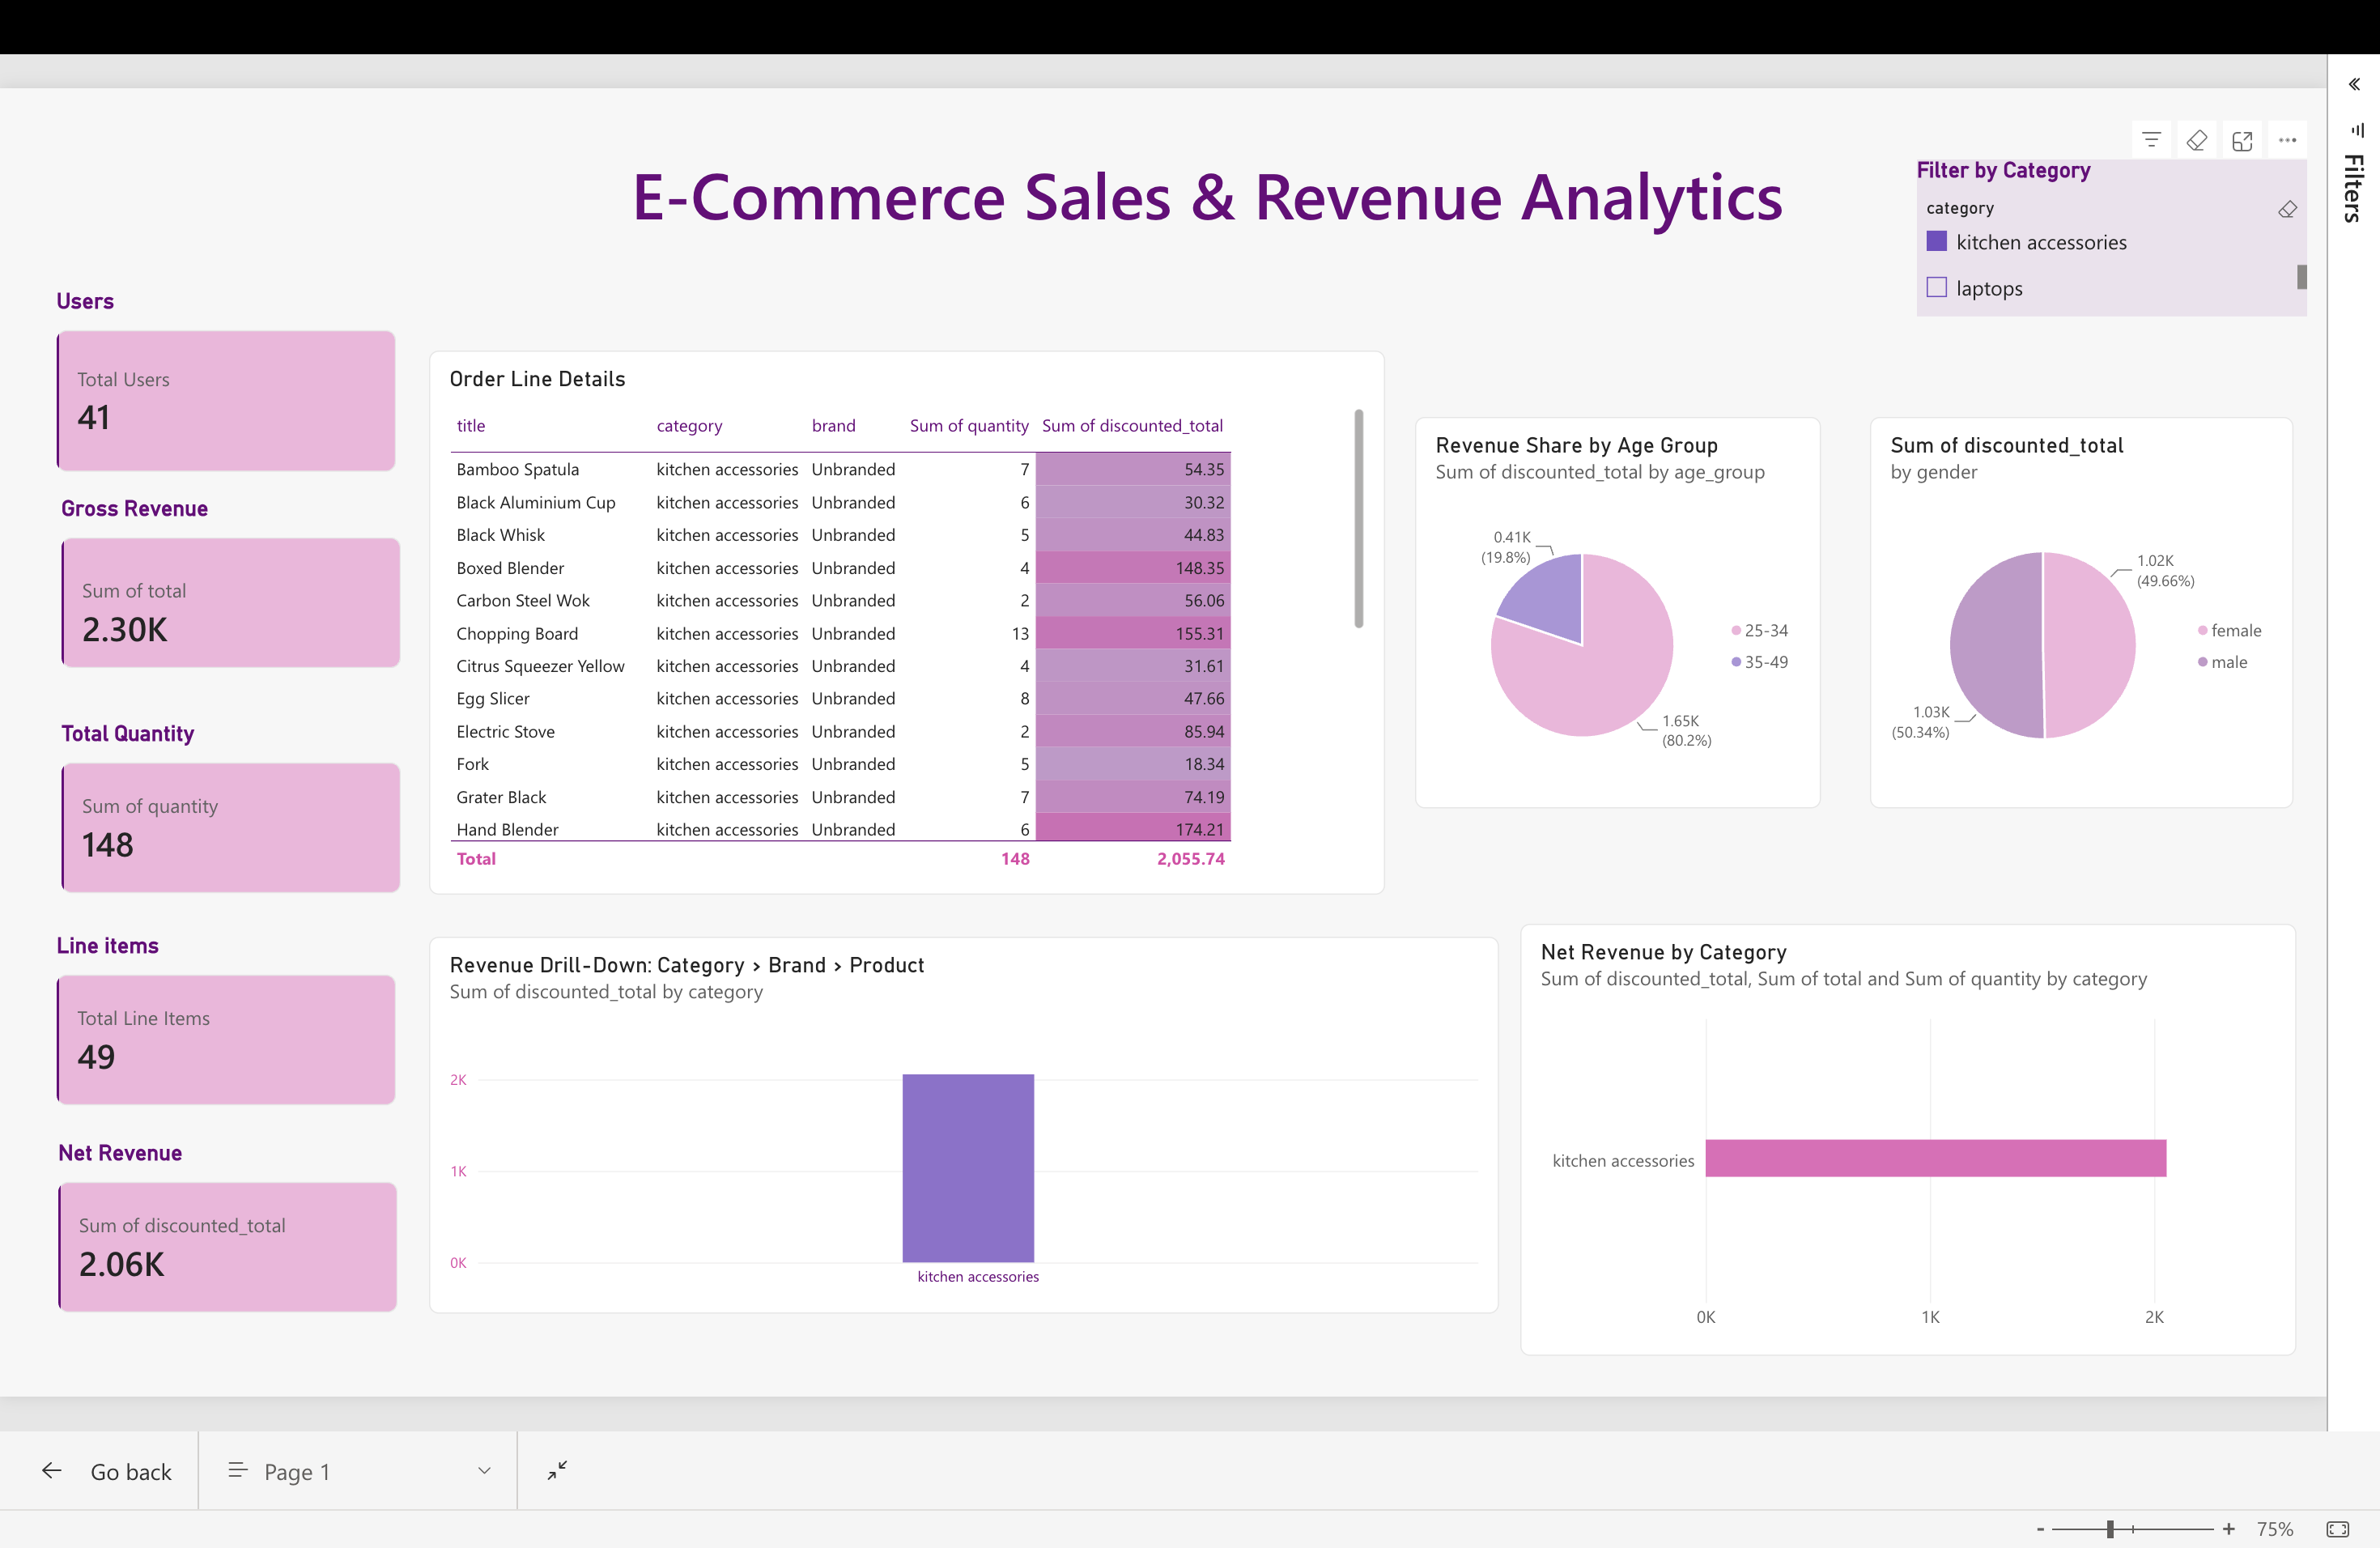

The dashboard page shown, as its layout file describes it:
{"tool":"powerbi","page":{"name":"Page 1","canvas":[1920,1080],"ordinal":0},"visuals":[{"type":"cardVisual","title":"Net Revenue","fields":{"Data":["Sum(powerbi_dashboard_data.discounted_total)"]},"box":[47.7,869.4,280.3,141.1],"z":0},{"type":"cardVisual","title":"Gross Revenue","fields":{"Data":["Sum(powerbi_dashboard_data.total)"]},"box":[50.4,337.5,280.3,141.1],"z":1000},{"type":"cardVisual","title":"Total Quantity","fields":{"Data":["Sum(powerbi_dashboard_data.quantity)"]},"box":[50.4,523.6,280.3,141.1],"z":2000},{"type":"cardVisual","title":"Line items","fields":{"Data":["powerbi_dashboard_data.Total Line Items"]},"box":[46.5,698.2,280.3,141.1],"z":3000},{"type":"slicer","title":"Filter by Category","fields":{"Values":["powerbi_dashboard_data.category"]},"box":[1582.5,58.5,322.2,129.7],"z":4000},{"type":"clusteredBarChart","title":"Net Revenue by Category","fields":{"Category":["powerbi_dashboard_data.category"],"Y":["Sum(powerbi_dashboard_data.discounted_total)"]},"box":[1254.9,689.4,640.6,356.5],"z":5000},{"type":"clusteredColumnChart","title":"Revenue Drill-Down: Category > Brand > Product","fields":{"Category":["powerbi_dashboard_data.category","powerbi_dashboard_data.brand","powerbi_dashboard_data.title"],"Y":["Sum(powerbi_dashboard_data.discounted_total)"]},"box":[354.6,699.7,882.8,310.8],"z":6000},{"type":"pieChart","title":"Revenue Share by Age Group","fields":{"Category":["powerbi_dashboard_data.age_group"],"Y":["Sum(powerbi_dashboard_data.discounted_total)"]},"box":[1167.5,271.9,335,322.8],"z":7000},{"type":"tableEx","title":"Order Line Details","fields":{"Values":["powerbi_dashboard_data.title","powerbi_dashboard_data.category","powerbi_dashboard_data.brand","Sum(powerbi_dashboard_data.quantity)","Sum(powerbi_dashboard_data.discounted_total)"]},"box":[354.4,216,788.9,449.1],"z":8000},{"type":"textbox","box":[440.4,51.2,1105.6,144.4],"z":9000},{"type":"cardVisual","title":"Users","fields":{"Data":["powerbi_dashboard_data.Total Users"]},"box":[46.1,167.5,280,150],"z":10000},{"type":"pieChart","fields":{"Category":["powerbi_dashboard_data.gender"],"Y":["Sum(powerbi_dashboard_data.discounted_total)"]},"box":[1543.8,271.9,349.5,322.8],"z":11000}]}

Visuals, with their boxes on the page's 1920x1080 design canvas (x1, y1, x2, y2). These are canvas units, not pixel positions in the 2380x1548 screenshot, which may show the page scaled, cropped or inside an application window:
"Net Revenue" cardVisual: 48 869 328 1010
"Gross Revenue" cardVisual: 50 338 331 479
"Total Quantity" cardVisual: 50 524 331 665
"Line items" cardVisual: 46 698 327 839
"Filter by Category" slicer: 1582 58 1905 188
"Net Revenue by Category" clusteredBarChart: 1255 689 1896 1046
"Revenue Drill-Down: Category > Brand > Product" clusteredColumnChart: 355 700 1237 1010
"Revenue Share by Age Group" pieChart: 1168 272 1502 595
"Order Line Details" tableEx: 354 216 1143 665
textbox: 440 51 1546 196
"Users" cardVisual: 46 168 326 318
pieChart - powerbi_dashboard_data.gender x Sum(powerbi_dashboard_data.discounted_total): 1544 272 1893 595
